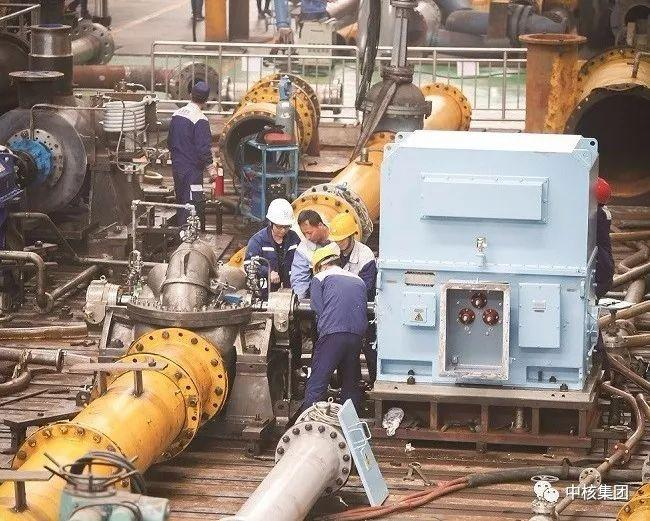helmet: (332, 212, 362, 242), (268, 198, 297, 228), (313, 246, 342, 272), (193, 80, 212, 96)
